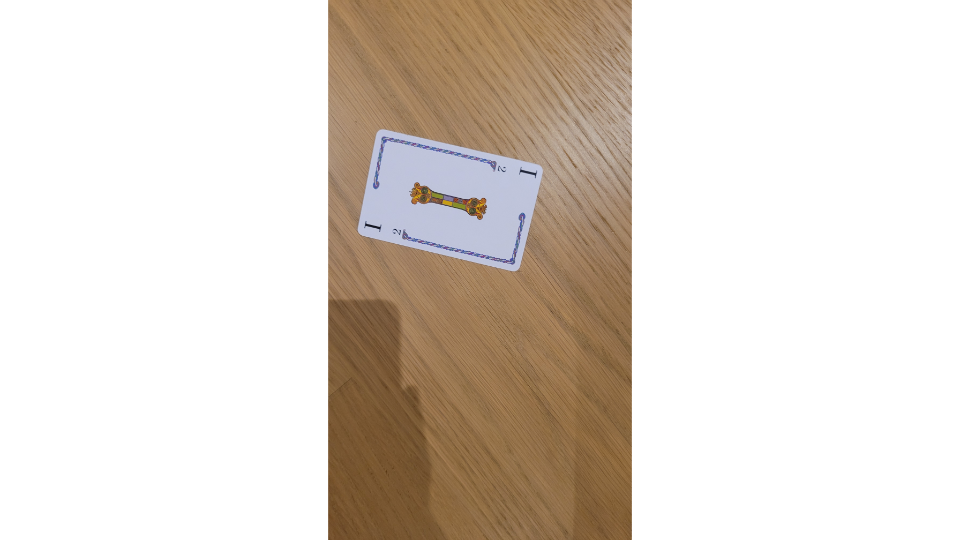I: (353, 127, 547, 277)
